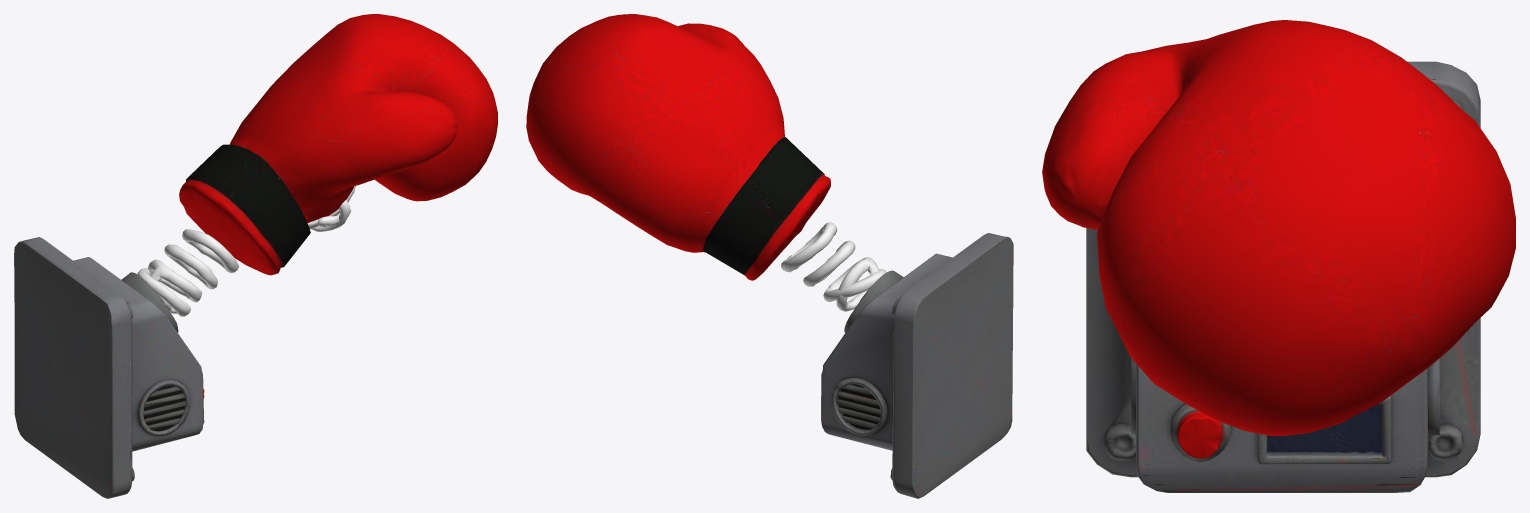
Rendered from boxing_glove.glb.
3 renders of one model, left to right at view 1: azimuth 30°, elevation 25°; view 2: azimuth 150°, elevation 25°; view 3: azimuth 270°, elevation 25°, orthographic. The views are drawn at different scales.
Visible parts, largest first — view 1: geometry_0; view 2: geometry_0; view 3: geometry_0.
Boxes of the visible parts, x1=… form: geometry_0: x1=14, y1=14, x2=497, y2=498; geometry_0: x1=526, y1=14, x2=1013, y2=498; geometry_0: x1=1042, y1=20, x2=1515, y2=492.
Bounding box in the file's own units: 0.9517 × 0.7944 × 0.4648.
Materials: 1 (1 with a texture image).
